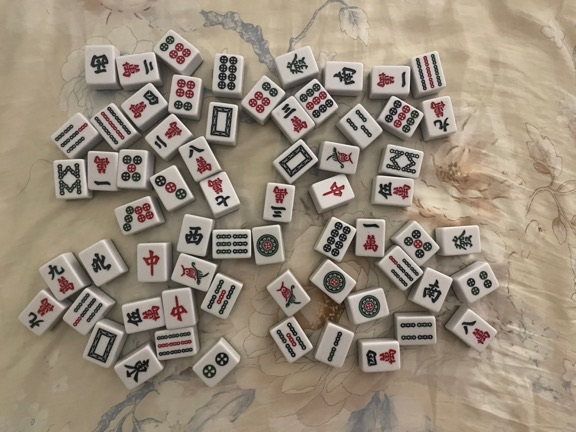b-1: (178, 261, 210, 286), (325, 145, 355, 171), (275, 280, 302, 308)
b-2: (327, 331, 343, 362)
b-3: (346, 109, 373, 138)
b-4: (400, 319, 435, 342)
b-5: (275, 322, 307, 359), (206, 279, 236, 315)
b-6: (216, 232, 248, 257)
b-7: (387, 254, 420, 287), (71, 293, 103, 327), (54, 123, 88, 153)
b-8: (55, 163, 82, 196), (387, 147, 419, 174)
b-9: (93, 105, 132, 145), (414, 53, 443, 91), (156, 331, 194, 358)
c-1: (90, 155, 115, 188), (361, 220, 380, 254), (376, 70, 408, 90)
c-2: (154, 121, 182, 149), (120, 57, 154, 78)
c-3: (281, 103, 308, 134), (269, 183, 289, 220)
c-4: (128, 89, 160, 119), (365, 348, 397, 367)
c-5: (126, 305, 161, 327), (377, 181, 412, 201)
c-7: (207, 177, 233, 210)
c-8: (460, 319, 492, 347), (187, 145, 214, 175)
c-9: (46, 264, 76, 295), (27, 297, 56, 329), (429, 100, 450, 133)
d-1: (255, 232, 280, 258), (322, 270, 346, 294), (358, 294, 381, 318)
d-2: (203, 352, 229, 379)
d-3: (154, 175, 187, 200)
d-4: (465, 270, 493, 296)
d-5: (402, 230, 432, 259), (121, 153, 143, 183)
d-6: (247, 80, 279, 114), (159, 35, 192, 65), (174, 78, 196, 111)
d-7: (122, 202, 154, 232)
d-8: (323, 221, 351, 257), (217, 55, 238, 90)
d-9: (300, 83, 335, 118), (384, 99, 419, 134)
honors-east: (124, 359, 152, 383)
honors-green: (286, 52, 310, 77), (451, 229, 474, 252)
honors-north: (90, 251, 112, 275)
honors-red: (140, 248, 163, 277), (170, 295, 189, 322), (321, 180, 346, 198)
honors-south: (332, 65, 358, 86), (423, 279, 443, 303)
honors-west: (88, 51, 111, 76), (182, 224, 204, 247)
honors-white: (278, 144, 313, 178), (87, 327, 117, 364), (209, 104, 234, 138)
